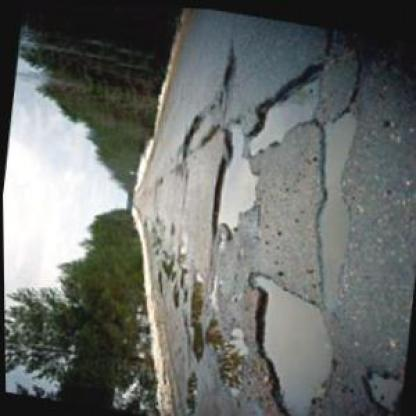pothole: (224, 264, 350, 414), (294, 98, 369, 306), (243, 46, 326, 165), (208, 115, 268, 243), (196, 312, 251, 394), (176, 97, 225, 164), (178, 266, 210, 359), (354, 362, 402, 410), (179, 368, 198, 414), (218, 46, 238, 87)
